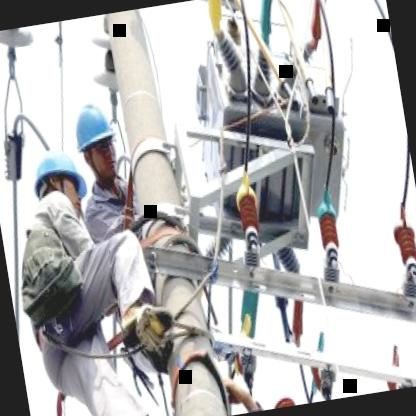helmet: (26, 142, 96, 224), (66, 94, 124, 190)
